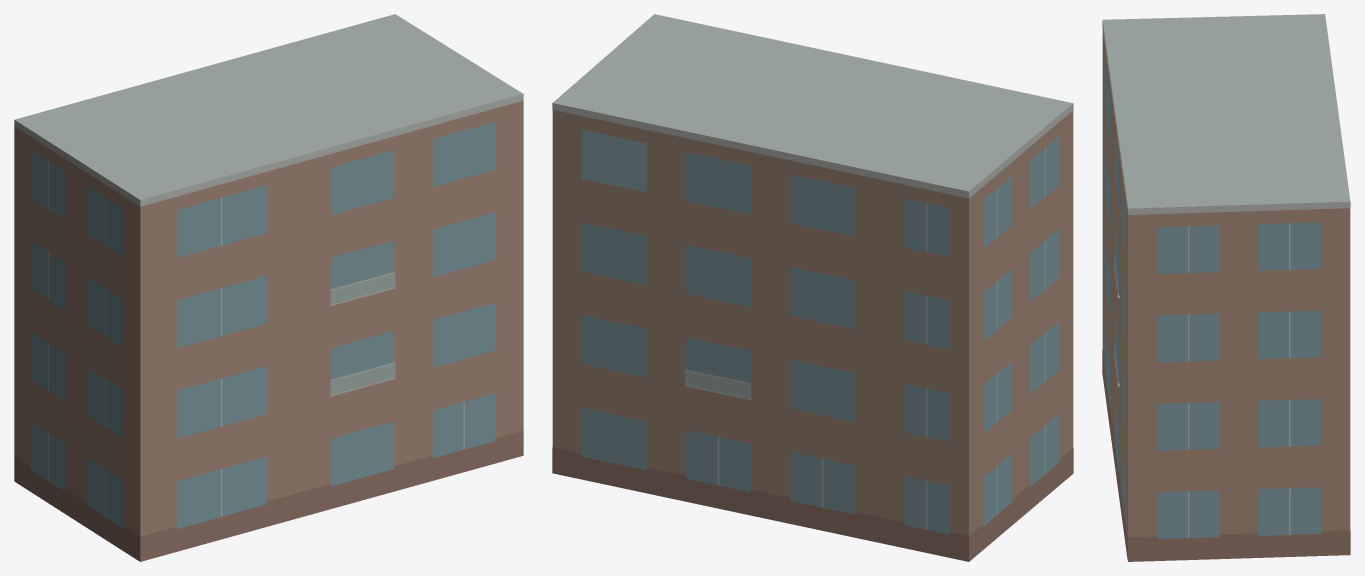
File: survey-upis-32630163.glb
3 views of the same model, side by side, from view 1: azimuth 30°, elevation 25°; view 2: azimuth 150°, elevation 25°; view 3: azimuth 270°, elevation 25° (orthographic). The views are drawn at different scales.
Visible parts, largest first — view 1: survey-upis-32630163.tmp; view 2: survey-upis-32630163.tmp; view 3: survey-upis-32630163.tmp.
Part boxes in pixels (x1,y1,x2,y2): survey-upis-32630163.tmp: [14, 14, 523, 561]; survey-upis-32630163.tmp: [552, 14, 1073, 561]; survey-upis-32630163.tmp: [1102, 14, 1350, 561].
Bounding box in the file's own units: 15.72 × 13.3 × 8.47.
